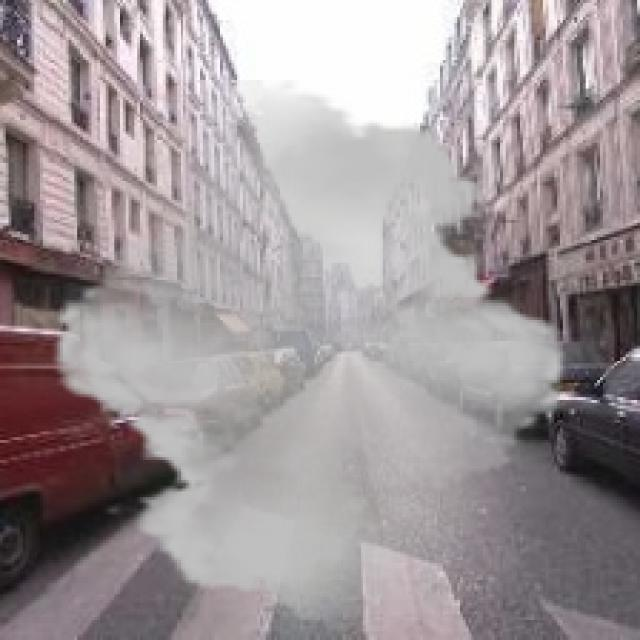Smoke: (31, 80, 588, 634)
